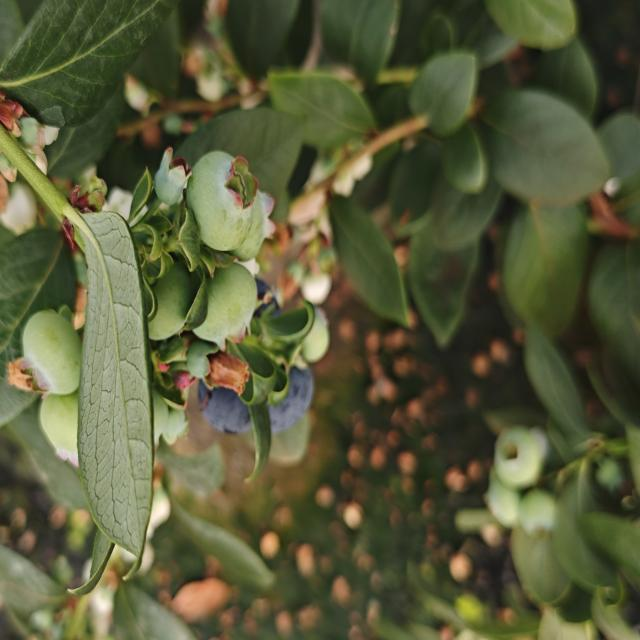ripe: (255, 352, 319, 439), (195, 351, 257, 440), (244, 263, 290, 326)
